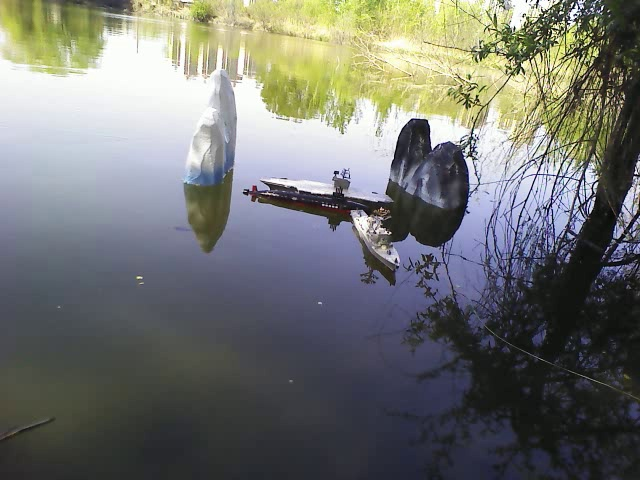aircraft_carrier: (264, 172, 393, 210)
iceberg: (178, 66, 240, 189)
rock: (389, 114, 472, 208)
submarine: (246, 188, 368, 215)
warship: (352, 207, 401, 272)
